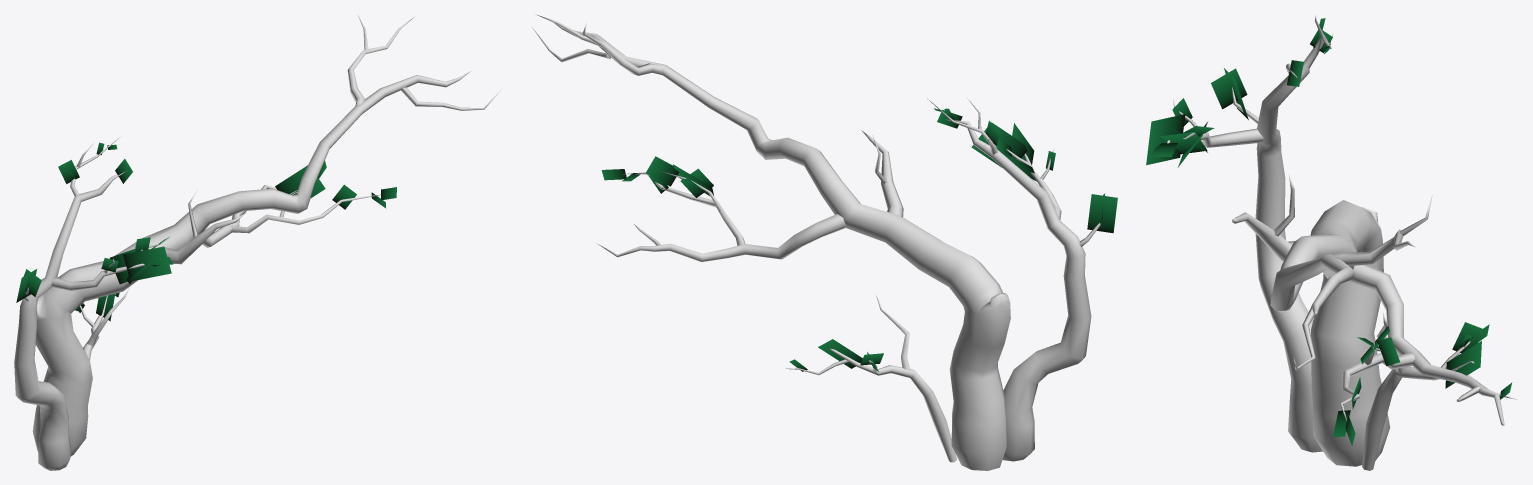
The model's file is SM_TreeWindsweptB03.fbx.
3 renders of one model, left to right at view 1: azimuth 30°, elevation 25°; view 2: azimuth 150°, elevation 25°; view 3: azimuth 270°, elevation 25°, orthographic. The views are drawn at different scales.
Parts seen in each view (by area): view 1: SM_TreeWindsweptB03_LOD0; view 2: SM_TreeWindsweptB03_LOD0; view 3: SM_TreeWindsweptB03_LOD0.
Part boxes in pixels (box(x1,y1,x2,y2)): SM_TreeWindsweptB03_LOD0: box(14, 15, 501, 470); SM_TreeWindsweptB03_LOD0: box(533, 14, 1117, 470); SM_TreeWindsweptB03_LOD0: box(1146, 15, 1517, 470).
Bounding box in the file's own units: 1816 × 1166 × 791.
